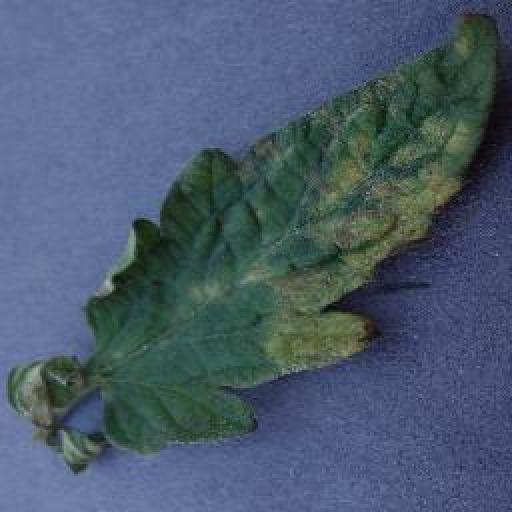Leaf Mold: (88, 3, 499, 456)
